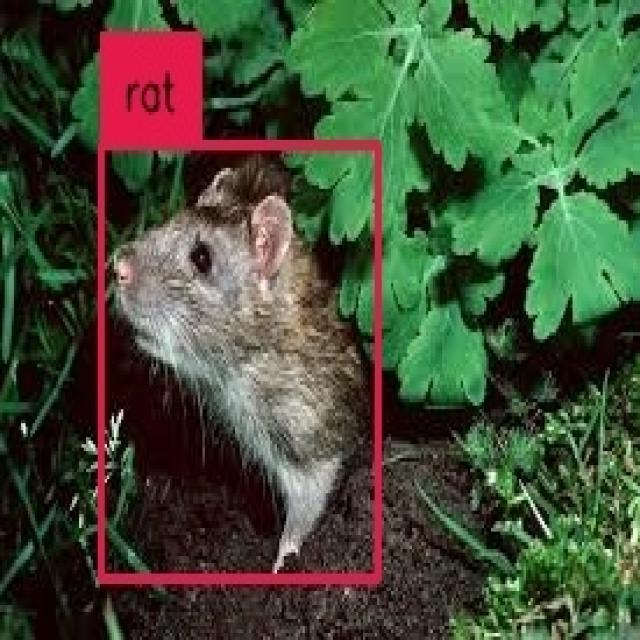rat: (102, 147, 377, 577)
